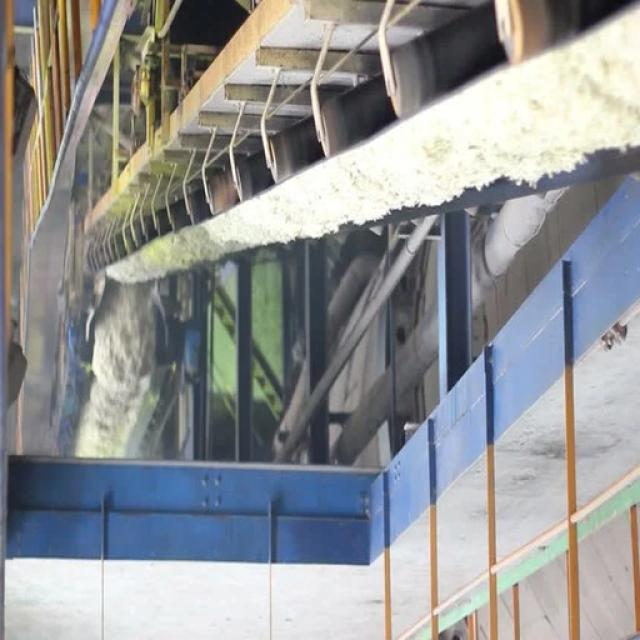conveyor: (98, 8, 640, 290)
